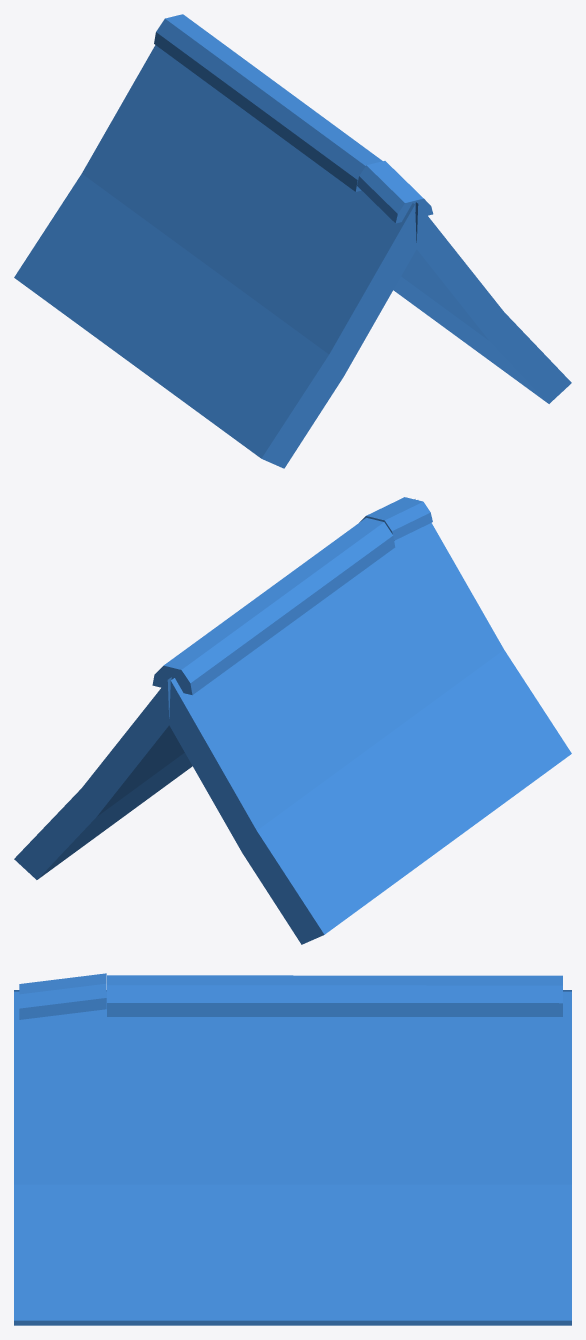
File: Collision_Roof_RoundTiles_4x6.fbx
The picture shows the model from 3 angles, top to bottom: view 1: azimuth 30°, elevation 25°; view 2: azimuth 150°, elevation 25°; view 3: azimuth 270°, elevation 25°; orthographic projection. The views are drawn at different scales.
Parts seen in each view (by area): view 1: UCX_Roof_RoundTiles_4x6_01; view 2: UCX_Roof_RoundTiles_4x6_01; view 3: UCX_Roof_RoundTiles_4x6_01.
Part boxes in pixels (<box>): UCX_Roof_RoundTiles_4x6_01: <box>14,14,571,468</box>; UCX_Roof_RoundTiles_4x6_01: <box>14,497,571,944</box>; UCX_Roof_RoundTiles_4x6_01: <box>14,973,571,1325</box>.
Bounding box in the file's own units: 555 × 416 × 766.
